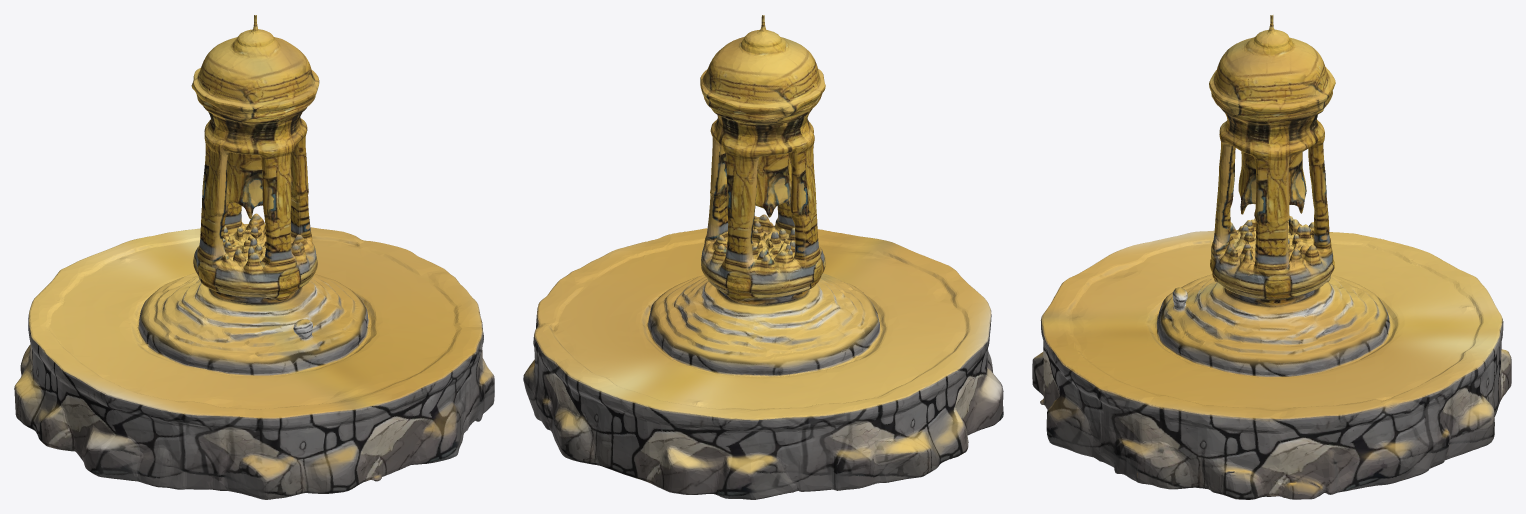
File: altar_damp.glb
3 renders of one model, left to right at view 1: azimuth 30°, elevation 25°; view 2: azimuth 150°, elevation 25°; view 3: azimuth 270°, elevation 25°, orthographic.
Parts seen in each view (by area): view 1: altar_damp; view 2: altar_damp; view 3: altar_damp.
Part boxes in pixels (x1,y1,x2,y2): altar_damp: (14,15,494,499); altar_damp: (523,15,1003,499); altar_damp: (1032,15,1511,499).
Size of the model in its own units: 1.68 by 1.5 by 1.68.
1 material, 1 textured.
